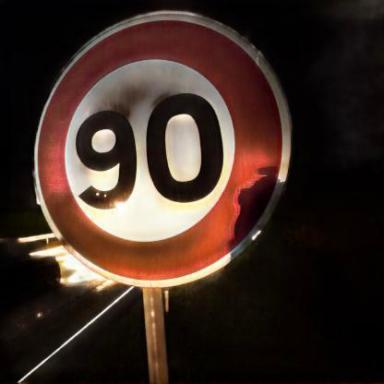Speed_limit_90: (35, 17, 285, 274)
